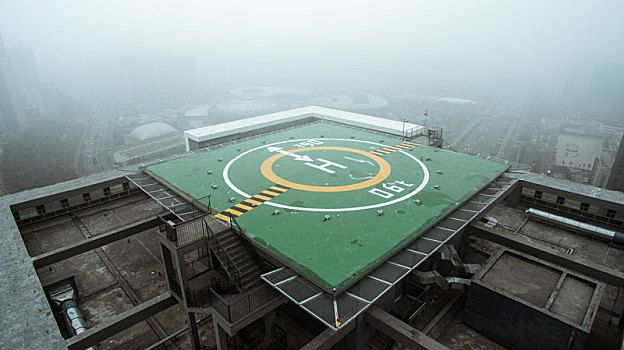Apron: (260, 146, 392, 192)
